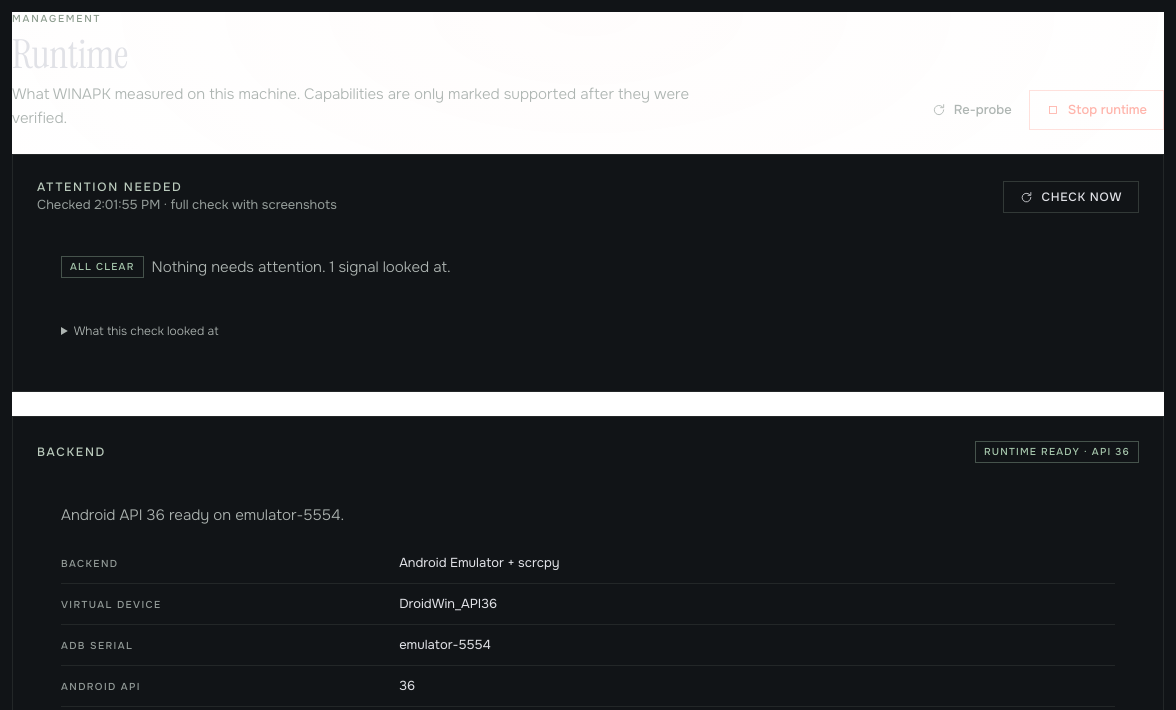
Test: Attention Needed › says what the check looked at and reports an honest all-clear
Expected: the text "All clear Nothing needs attention. 1 signal looked at." is shown, [61,256,451,278]
Click the heading "What this check looked at": point(146, 331) [74,323,218,339]
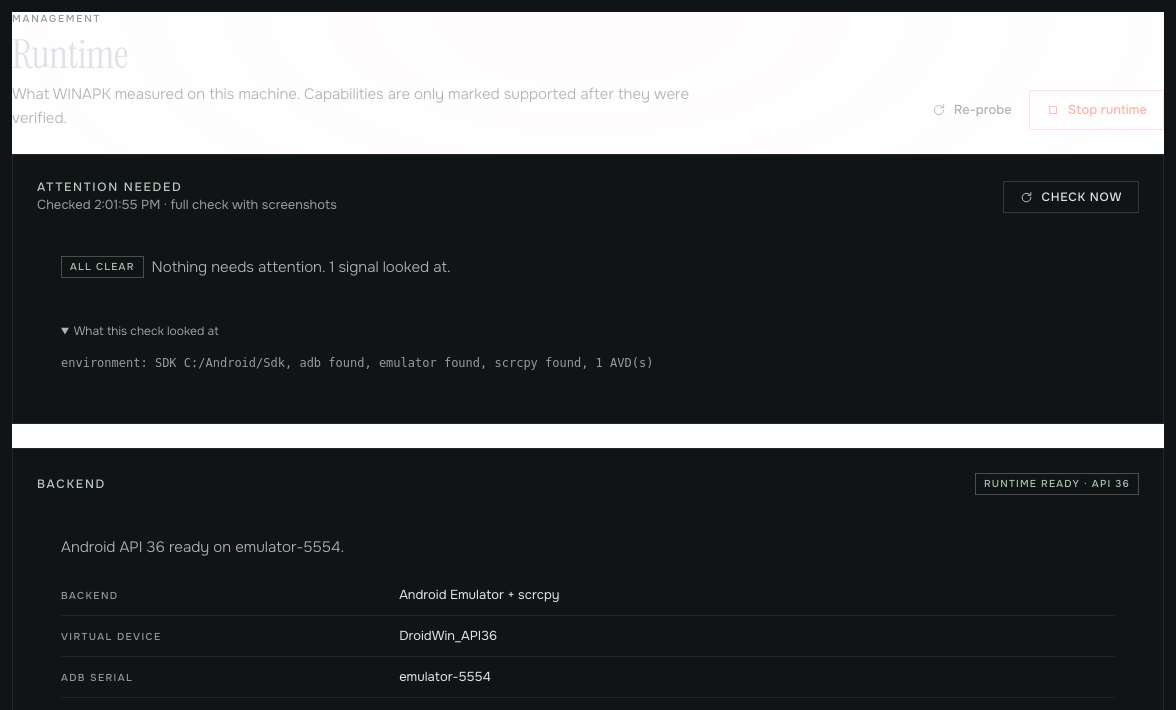
Now the list item "environment: SDK C:/Android/Sdk" is shown, box [61,356,653,370]
